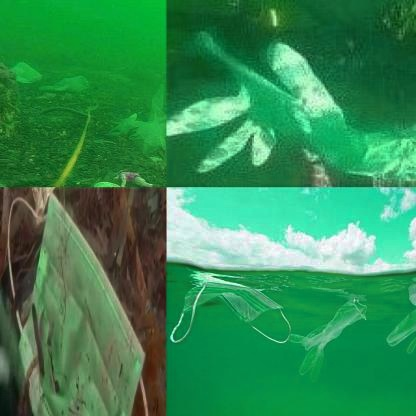Mask: (7, 192, 149, 415), (167, 274, 292, 362), (0, 47, 47, 97)
glove: (166, 31, 414, 184), (289, 300, 366, 382), (384, 297, 416, 359)
